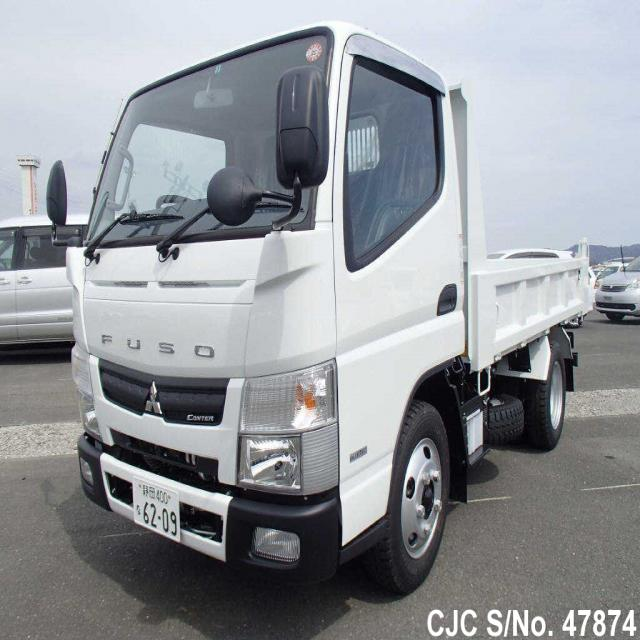truck: (45, 21, 587, 584)
